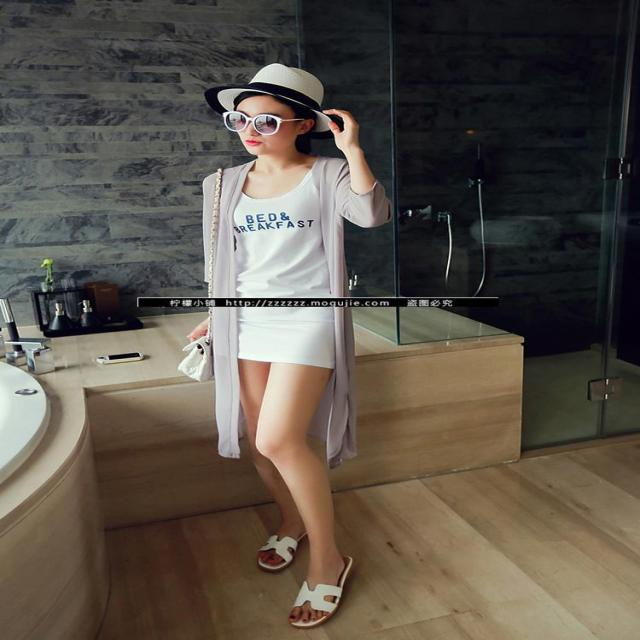long-sleeve-dress: (132, 148, 510, 519)
